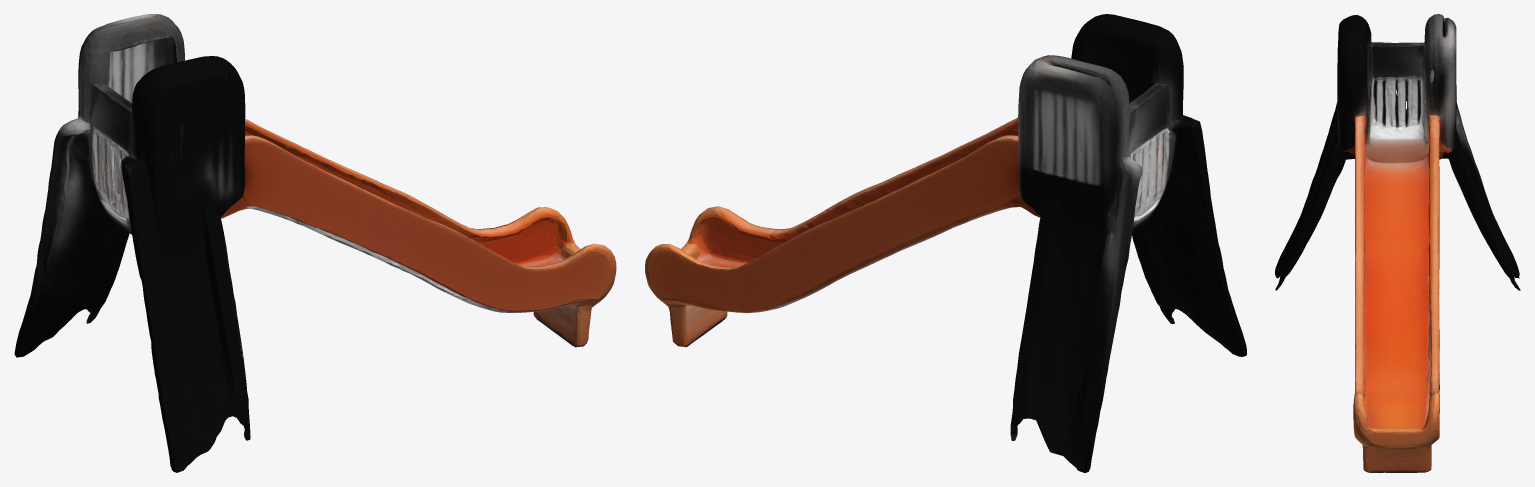
The picture shows the model from 3 angles, left to right: view 1: azimuth 30°, elevation 25°; view 2: azimuth 150°, elevation 25°; view 3: azimuth 270°, elevation 25°; orthographic projection. The views are drawn at different scales.
Parts seen in each view (by area): view 1: world; view 2: world; view 3: world.
Part boxes in pixels (x1,y1,x2,y2): world: (14,14,616,472); world: (645,14,1246,472); world: (1275,14,1520,472).
Size of the model in its own units: 1 by 0.7407 by 0.5545.
1 material, 1 textured.
